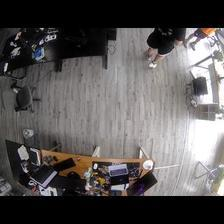normal: (143, 28, 189, 67)
